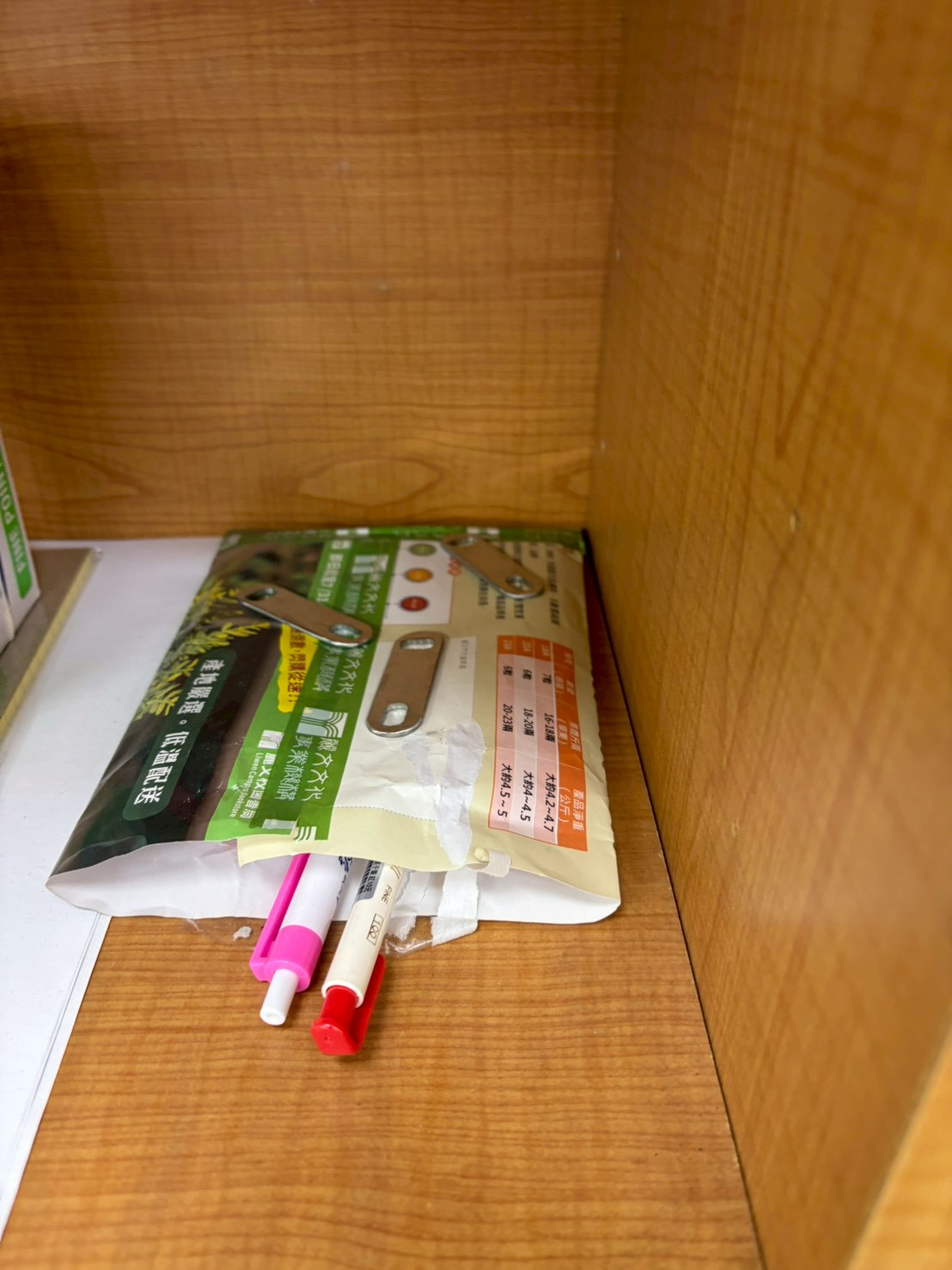Fe: (419, 508, 550, 606), (218, 567, 366, 647), (373, 622, 458, 740)
